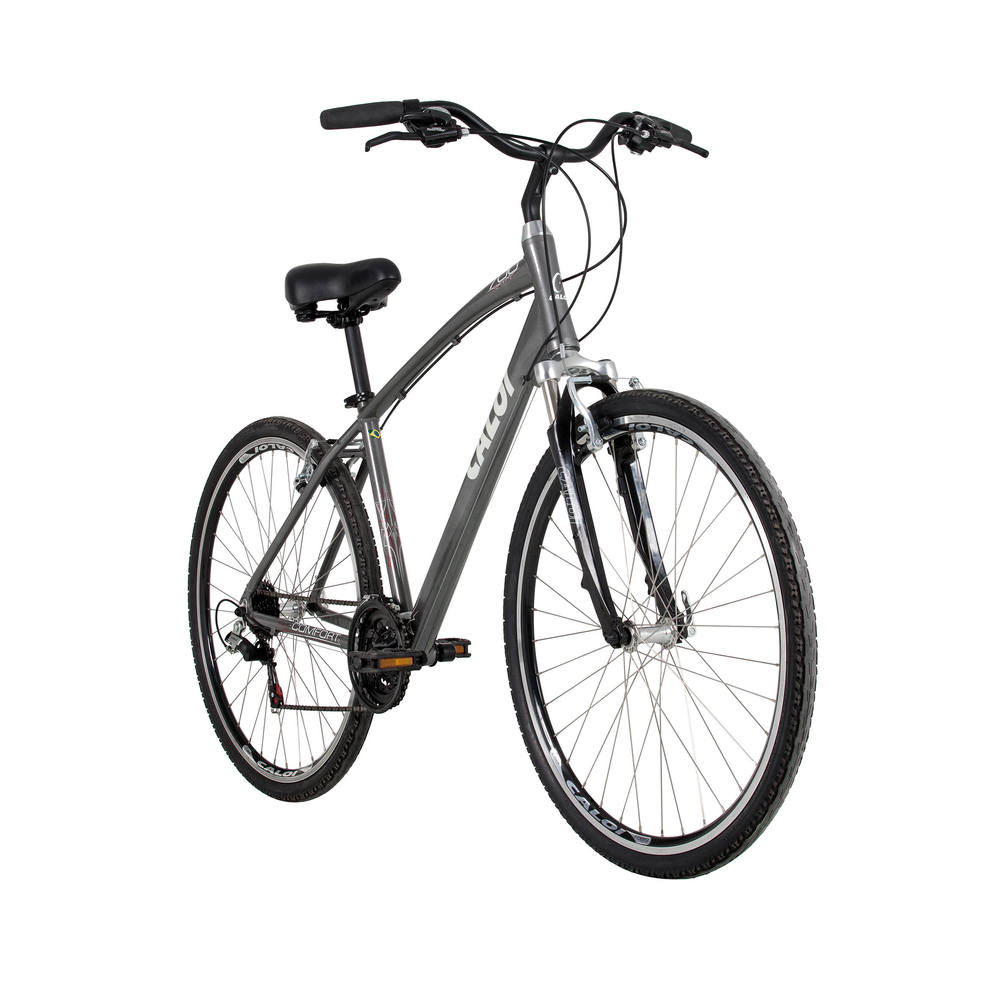UrbanBike: (196, 88, 812, 867)
